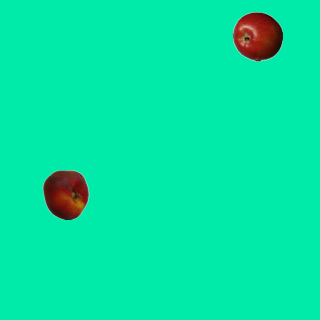Apple Braeburn: (232, 11, 282, 61)
Nectarine Flat: (40, 169, 90, 219)
